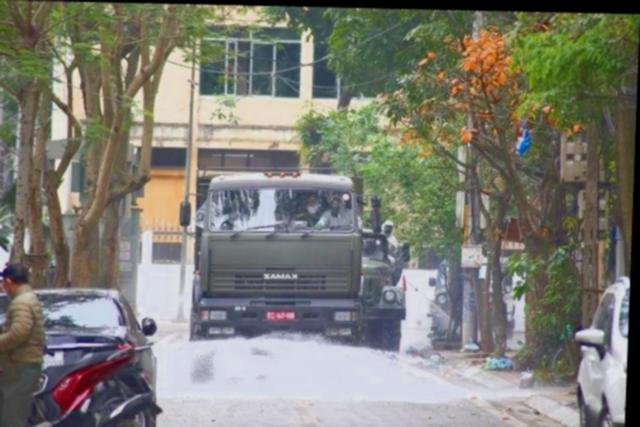License_Plate: (34, 347, 66, 372), (265, 307, 298, 321)
